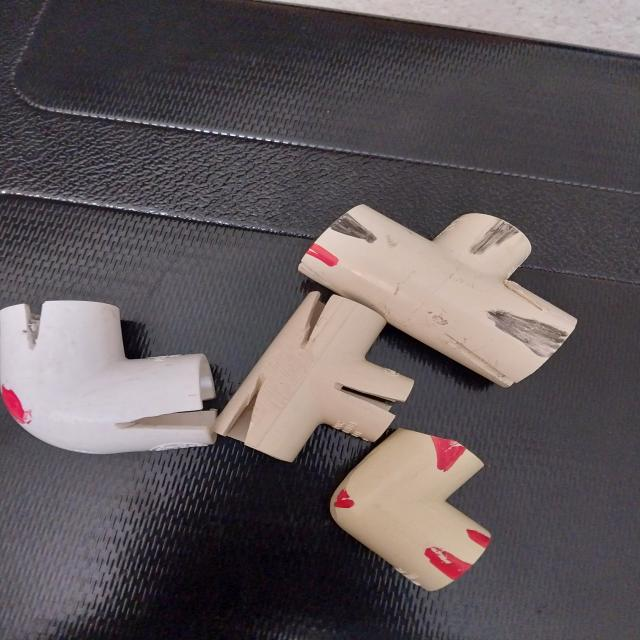Defective: (486, 310, 562, 354), (224, 382, 271, 445), (337, 384, 409, 414), (300, 298, 340, 344), (319, 222, 365, 258), (471, 220, 512, 253), (428, 549, 474, 578), (334, 216, 371, 241), (435, 440, 465, 469), (303, 252, 338, 270), (332, 493, 353, 511), (468, 532, 491, 548)
L Joint: (3, 302, 225, 450), (326, 430, 493, 594)
T Joint: (285, 204, 579, 396)
